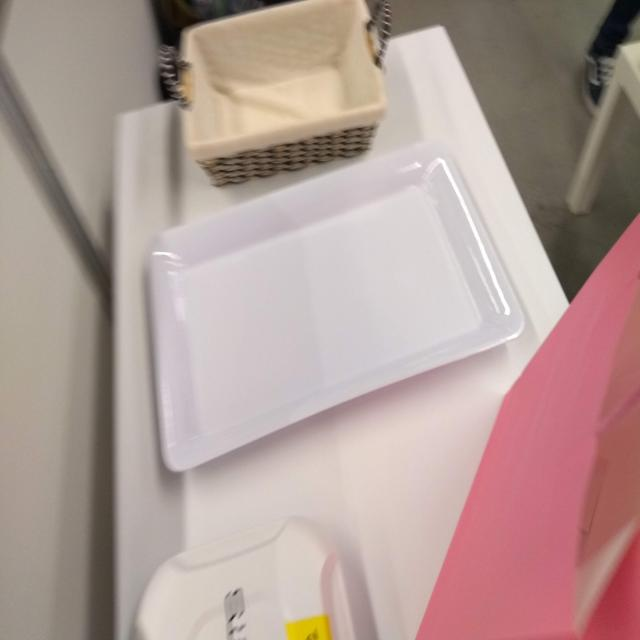tray: (145, 145, 530, 484)
